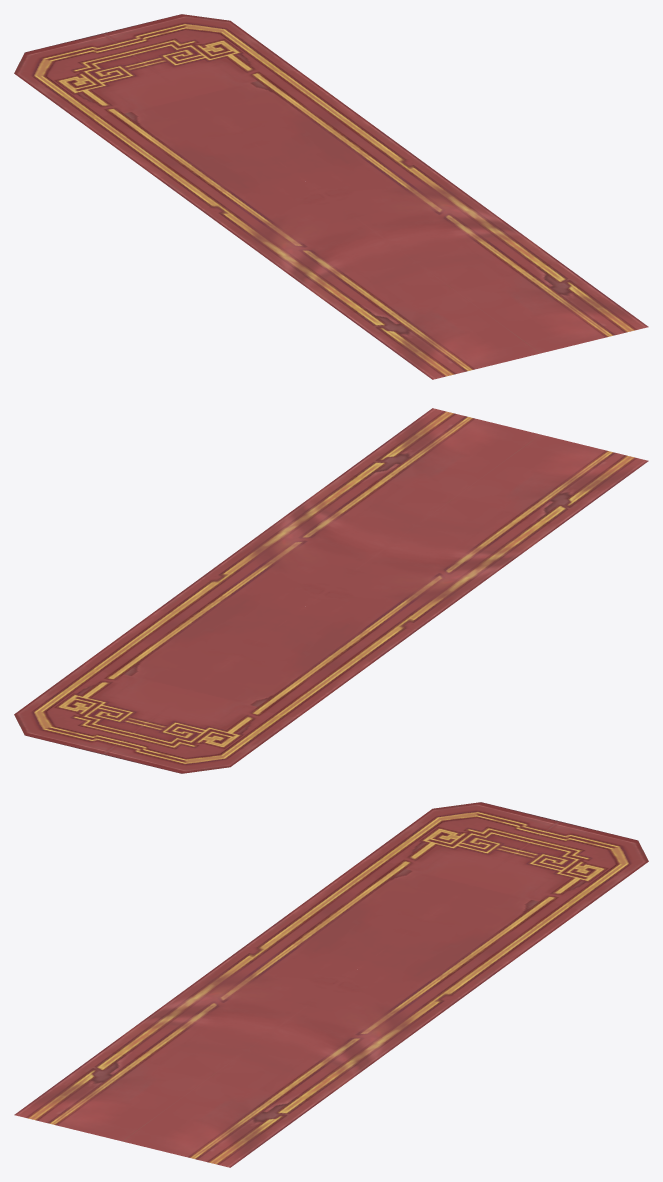
Rendered from ditan.FBX.
3 renders of one model, top to bottom at view 1: azimuth 30°, elevation 25°; view 2: azimuth 150°, elevation 25°; view 3: azimuth 330°, elevation 25°, orthographic.
Parts seen in each view (by area): view 1: Plane002; view 2: Plane002; view 3: Plane002.
Part boxes in pixels (box(x1,y1,x2,y2)): Plane002: box(14, 14, 648, 379); Plane002: box(14, 408, 648, 773); Plane002: box(14, 802, 648, 1167).
Bounding box in the file's own units: 269 × 8.24e-05 × 942.
1 material, 1 textured.
